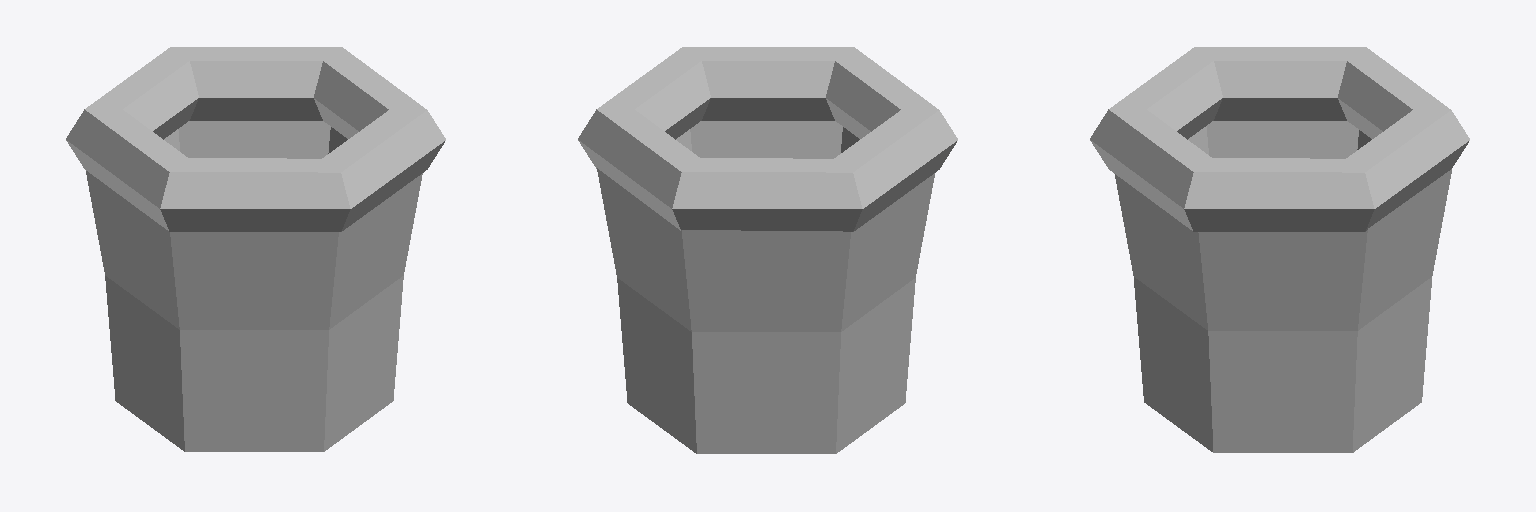
Rendered from misc05.obj.
3 views of the same model, side by side, from view 1: azimuth 30°, elevation 25°; view 2: azimuth 150°, elevation 25°; view 3: azimuth 270°, elevation 25° (orthographic).
Visible parts, largest first — view 1: misc05; view 2: misc05; view 3: misc05.
Boxes of the visible parts, x1=… form: misc05: x1=66, y1=47, x2=445, y2=451; misc05: x1=578, y1=47, x2=957, y2=453; misc05: x1=1090, y1=47, x2=1469, y2=452.
Bounding box in the file's own units: 0.0113 × 0.011 × 0.013.